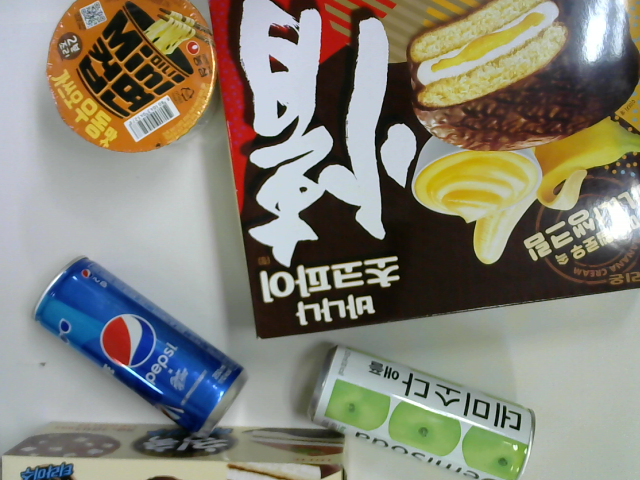Chicchok_Tiramisu: (1, 424, 349, 480)
Choco_Pie_Banana: (207, 1, 640, 343)
Demisoda_Apple_Can_250ml: (309, 344, 538, 480)
Pepsi_Cola_Can_250ml: (32, 253, 251, 441)
Udongmini: (46, 1, 221, 156)
